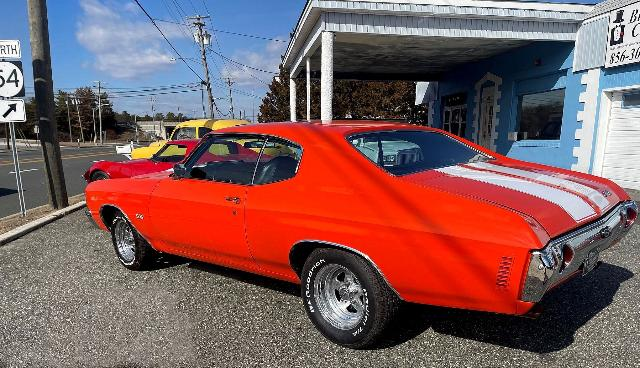chevelle-1972: (86, 120, 640, 350), (86, 121, 640, 349)
